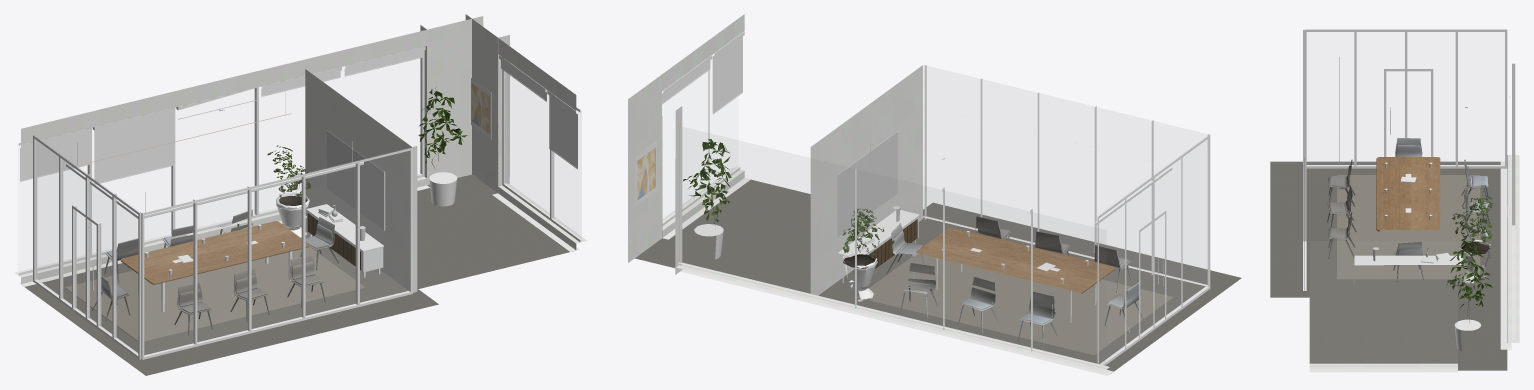
Rendered from z-open_n-lite.light.694929ec.glb.
3 renders of one model, left to right at view 1: azimuth 30°, elevation 25°; view 2: azimuth 150°, elevation 25°; view 3: azimuth 270°, elevation 25°, orthographic. The views are drawn at different scales.
Parts seen in each view (by area): view 1: open_n_plaster, open_n_carpet, open_n_satin, open_n_glass, open_n_oak, open_n_fx, open_n_gloss, open_n_veg_atlas, open_n_metal_lit, open_n_art, open_n_proxy_cab; view 2: open_n_carpet, open_n_plaster, open_n_glass, open_n_satin, open_n_oak, open_n_fx, open_n_gloss, open_n_veg_atlas, open_n_metal_lit, open_n_art, open_n_proxy_cab; view 3: open_n_carpet, open_n_satin, open_n_oak, open_n_fx, open_n_plaster, open_n_veg_atlas, open_n_metal_lit.
Boxes of the visible parts, <box> form: open_n_plaster: <box>15,14,586,292</box>; open_n_carpet: <box>22,174,575,375</box>; open_n_satin: <box>17,46,582,359</box>; open_n_glass: <box>37,168,304,267</box>; open_n_oak: <box>120,221,309,284</box>; open_n_fx: <box>92,209,338,335</box>; open_n_gloss: <box>145,130,385,274</box>; open_n_veg_atlas: <box>267,87,467,205</box>; open_n_metal_lit: <box>24,78,570,311</box>; open_n_art: <box>471,83,489,133</box>; open_n_proxy_cab: <box>307,213,360,269</box>; open_n_carpet: <box>635,179,1241,373</box>; open_n_plaster: <box>628,14,1109,371</box>; open_n_glass: <box>682,127,1207,364</box>; open_n_satin: <box>662,31,1210,375</box>; open_n_oak: <box>916,227,1114,293</box>; open_n_fx: <box>886,216,1145,347</box>; open_n_gloss: <box>837,131,1088,283</box>; open_n_veg_atlas: <box>683,139,884,267</box>; open_n_metal_lit: <box>635,141,1163,371</box>; open_n_art: <box>637,147,655,200</box>; open_n_proxy_cab: <box>861,219,917,269</box>; open_n_carpet: <box>1270,161,1507,370</box>; open_n_satin: <box>1303,29,1515,372</box>; open_n_oak: <box>1376,157,1440,231</box>; open_n_fx: <box>1327,138,1490,281</box>; open_n_plaster: <box>1304,155,1519,368</box>; open_n_veg_atlas: <box>1446,191,1493,318</box>; open_n_metal_lit: <box>1390,107,1501,349</box>.
Size of the model in its own units: 10.25 by 3.3 by 5.05.
Materials: 13 (7 with a texture image).
